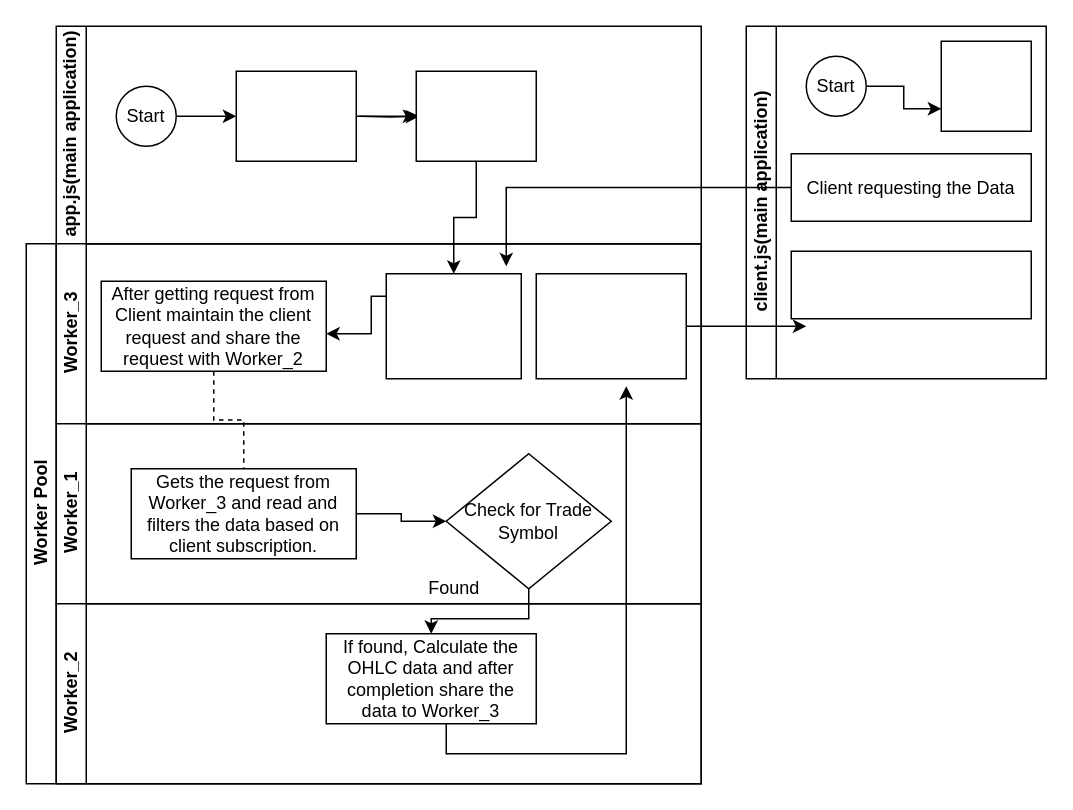
Image size: 1073x810. Some labels were removed from this diagram. Here are the shapes that lost their labels. From the top down, the centre of each, then its label:
At [985,85]: "Start the Client application".
At [295,115]: "Start the HTTP Server".
At [475,115]: "After successful launch spawn the threads".
At [910,284]: "Client getting the response".
At [453,325]: "Start the Socket Server to process the client requests".
At [610,325]: "Get the OHLC data from Worker_3 share it with Client who have subscribed".
